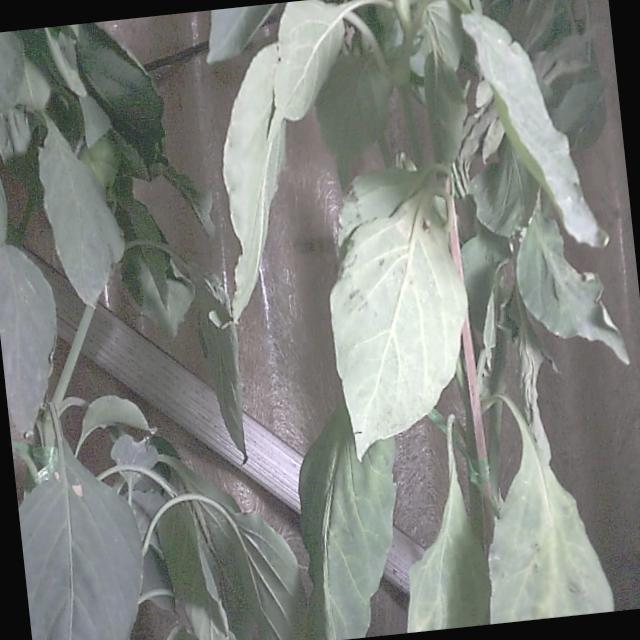Leaf: (330, 190, 467, 457), (462, 13, 607, 246), (489, 402, 613, 623), (19, 447, 142, 639), (299, 405, 395, 639), (408, 416, 491, 631), (516, 212, 629, 363), (223, 46, 285, 319), (39, 118, 124, 305), (0, 245, 56, 431), (207, 4, 275, 64)
